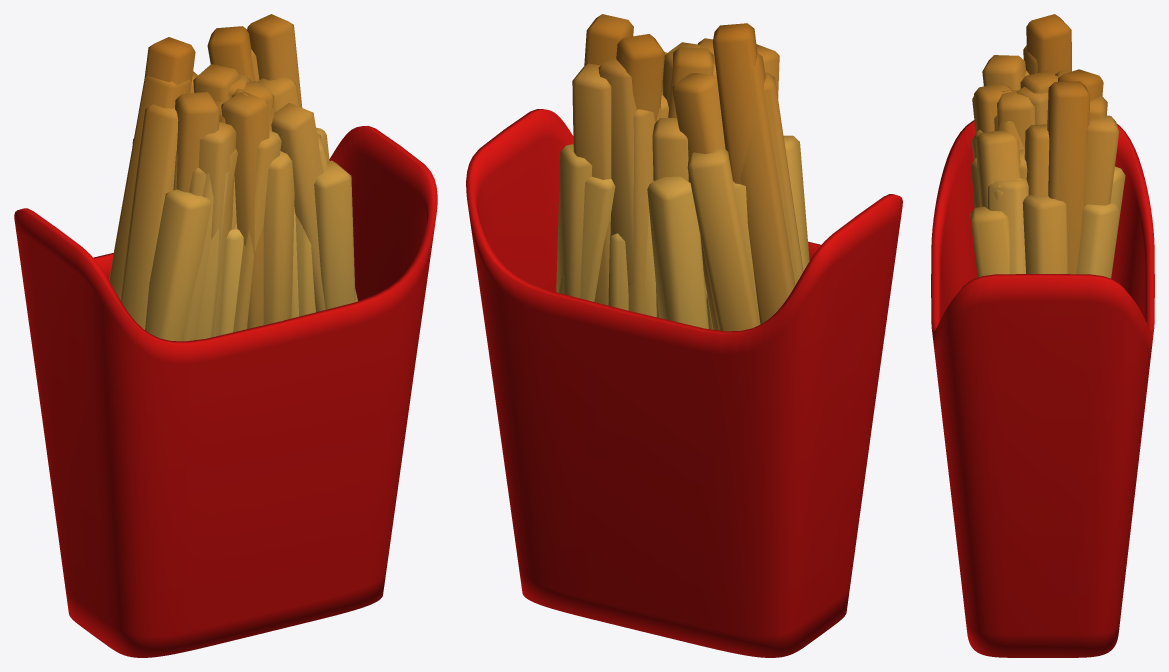
Rendered from fries.glb.
The picture shows the model from 3 angles, left to right: view 1: azimuth 30°, elevation 25°; view 2: azimuth 150°, elevation 25°; view 3: azimuth 270°, elevation 25°; orthographic projection. The views are drawn at different scales.
Visible parts, largest first — view 1: fries; view 2: fries; view 3: fries.
Boxes of the visible parts, <box> form: fries: <box>14,14,437,657</box>; fries: <box>466,14,902,657</box>; fries: <box>931,14,1154,657</box>.
Bounding box in the file's own units: 0.0792 × 0.1239 × 0.0456.
